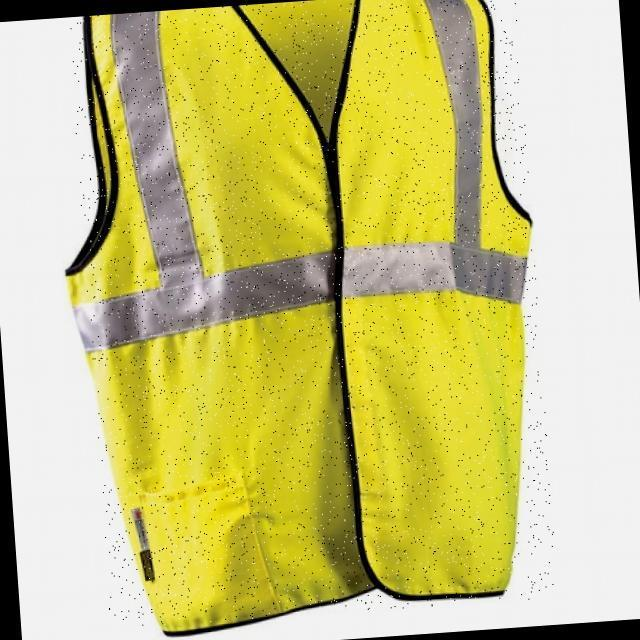vest: (67, 0, 558, 628)
